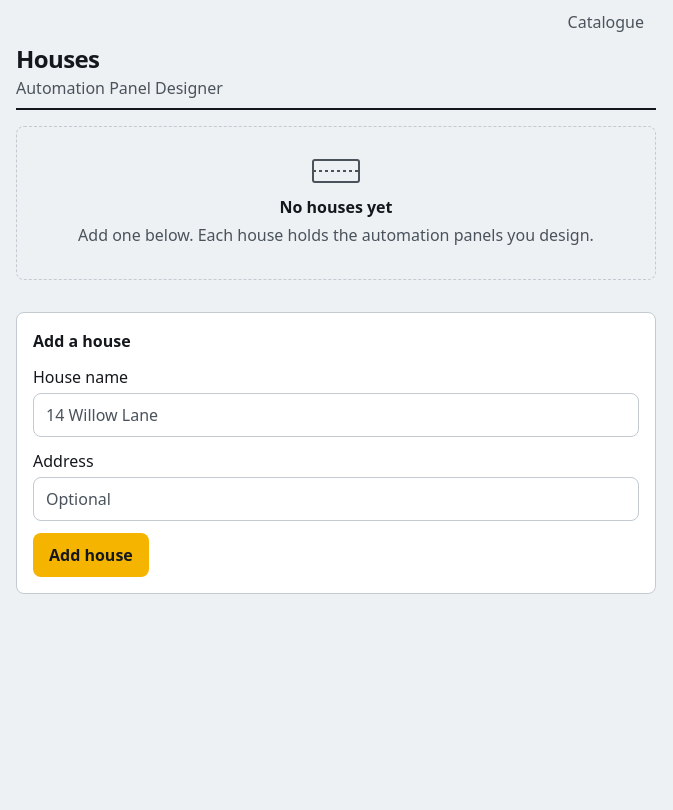
it: ProjectsPage › keeps the typed house and says so when the API answers with an HTML error page
expect the text "No houses yet" is shown: met, box [280,196,392,218]
In the field labelled "House name": (336, 415) [33,393,639,437], type "Keep me"
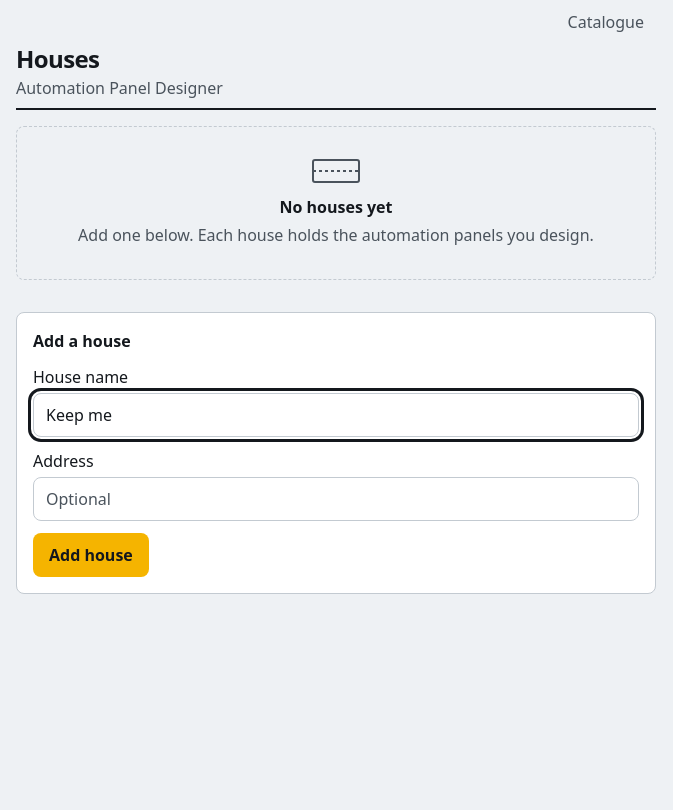
In the field labelled "Address": (336, 499) [33,477,639,521], type "Keep me too"
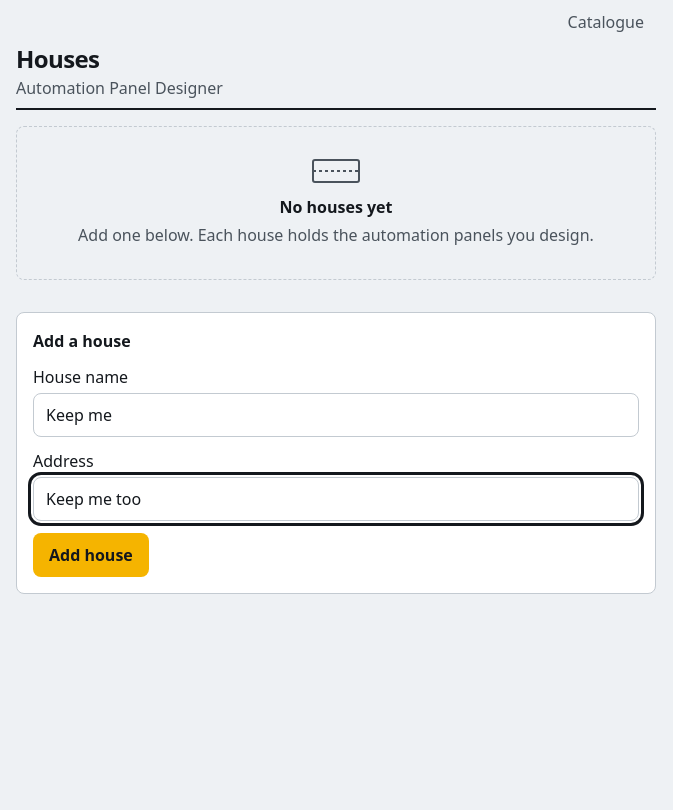
Click the button "Add house": (91, 555) [33,533,149,577]
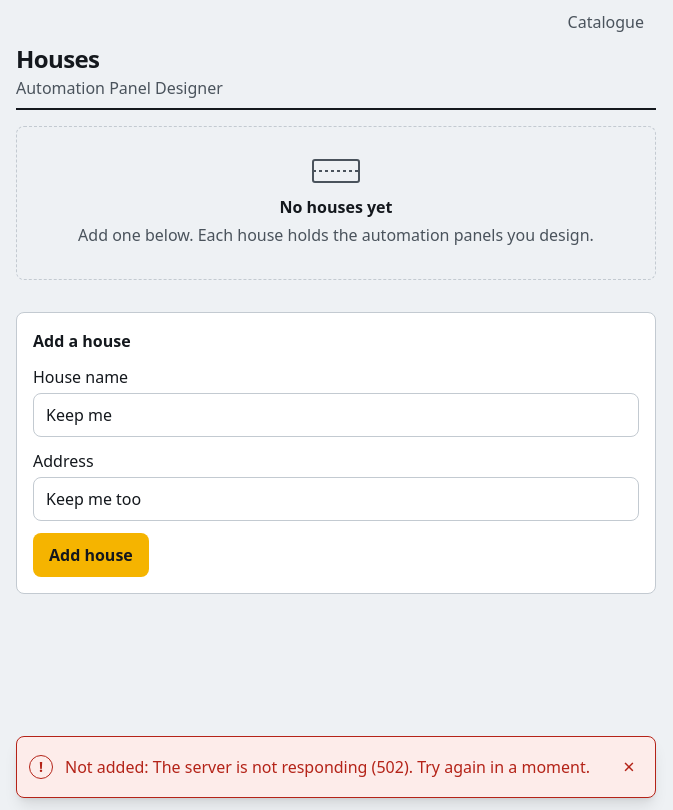
expect the message shows "Not added: The server is not responding (502)": met, box [65,756,590,778]
